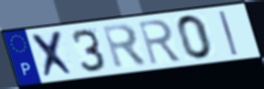0: (175, 13, 215, 61)
3: (72, 27, 108, 74)
I: (217, 10, 240, 58)
R: (100, 22, 150, 71), (136, 17, 184, 67)
X: (29, 29, 79, 80)
